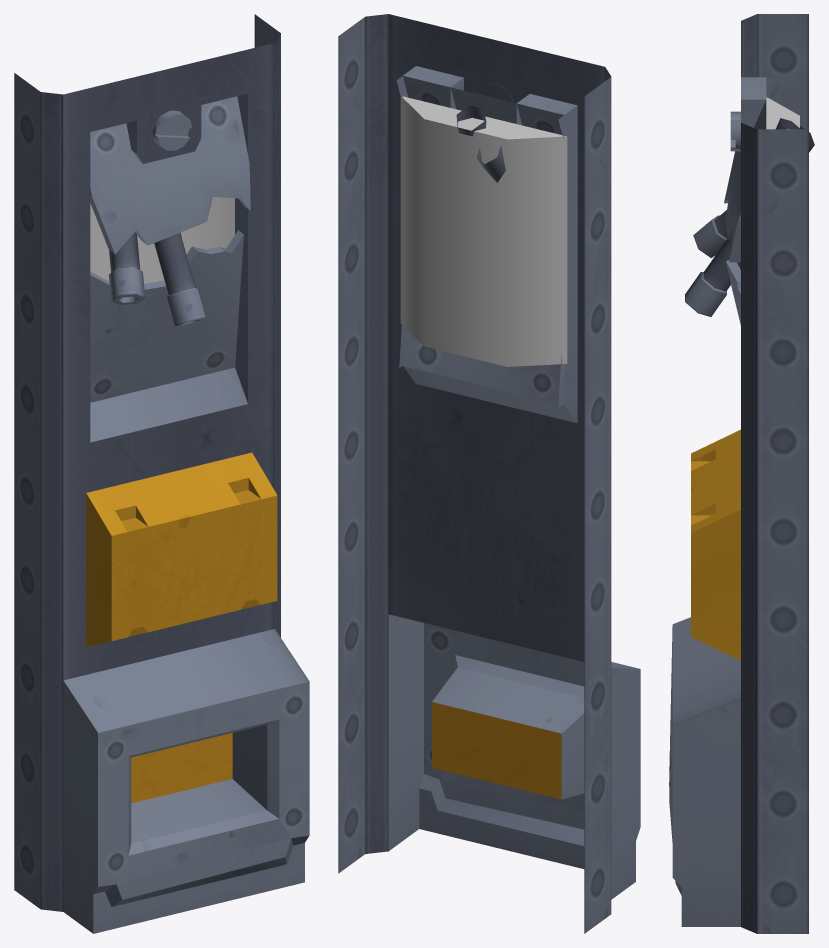
File: obj_spaceship_wall04.fbx
3 views of the same model, side by side, from view 1: azimuth 30°, elevation 25°; view 2: azimuth 150°, elevation 25°; view 3: azimuth 270°, elevation 25° (orthographic). The views are drawn at different scales.
Visible parts, largest first — view 1: polySurface239; view 2: polySurface239; view 3: polySurface239.
Boxes of the visible parts, x1,y1,x2,y2 form: polySurface239: [14, 14, 309, 933]; polySurface239: [338, 14, 640, 933]; polySurface239: [669, 14, 814, 933].
Size of the model in its own units: 4 by 13 by 2.13.
